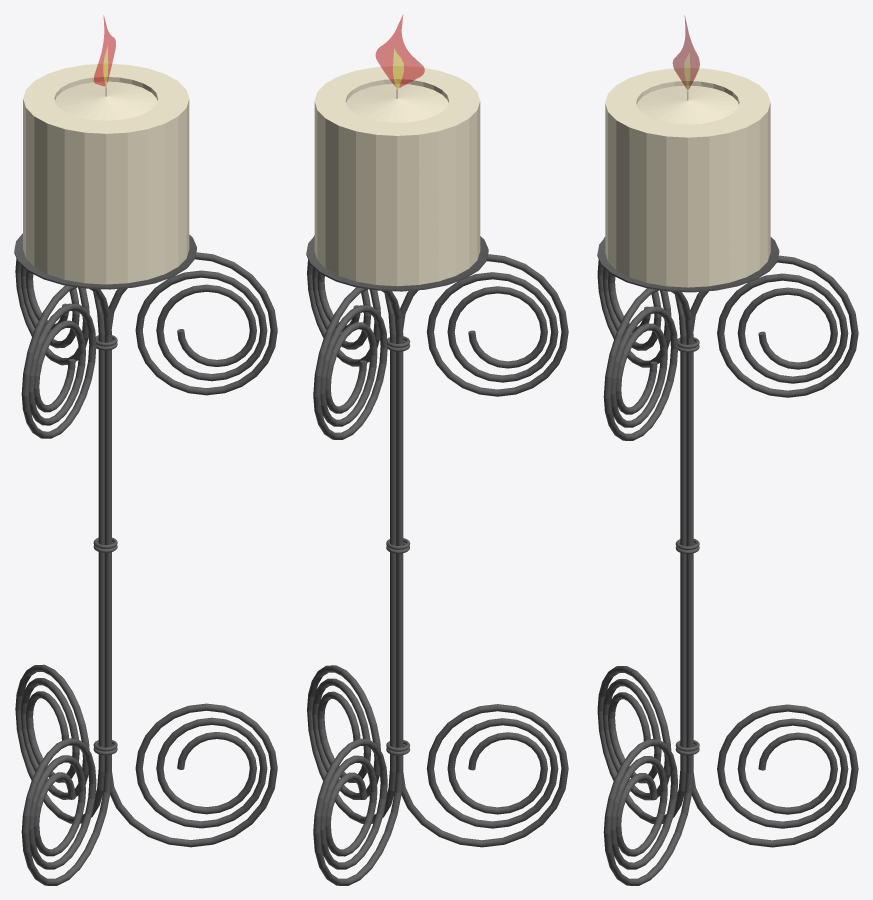
Rendered from Candle+Holder.obj.
3 views of the same model, side by side, from view 1: azimuth 30°, elevation 25°; view 2: azimuth 150°, elevation 25°; view 3: azimuth 270°, elevation 25° (orthographic).
Parts seen in each view (by area): view 1: Mesh3 skpF009_1 Model, Mesh5 skpF009_1 Model, Mesh6 skpF009_1 Model, Mesh4 skpF009_1 Model, Mesh2 skpF009_1 Model, Mesh1 Component1 skpF009_1 Model; view 2: Mesh3 skpF009_1 Model, Mesh6 skpF009_1 Model, Mesh4 skpF009_1 Model, Mesh5 skpF009_1 Model, Mesh1 Component1 skpF009_1 Model, Mesh2 skpF009_1 Model; view 3: Mesh3 skpF009_1 Model, Mesh4 skpF009_1 Model, Mesh5 skpF009_1 Model, Mesh6 skpF009_1 Model, Mesh2 skpF009_1 Model, Mesh1 Component1 skpF009_1 Model.
Part boxes in pixels (box(x1,y1,x2,y2)): Mesh3 skpF009_1 Model: box(23, 63, 189, 284); Mesh5 skpF009_1 Model: box(108, 252, 277, 847); Mesh6 skpF009_1 Model: box(21, 285, 111, 885); Mesh4 skpF009_1 Model: box(15, 258, 104, 823); Mesh2 skpF009_1 Model: box(14, 233, 196, 289); Mesh1 Component1 skpF009_1 Model: box(94, 15, 115, 86); Mesh3 skpF009_1 Model: box(314, 66, 480, 286); Mesh6 skpF009_1 Model: box(400, 254, 568, 847); Mesh4 skpF009_1 Model: box(313, 287, 403, 885); Mesh5 skpF009_1 Model: box(307, 235, 395, 823); Mesh1 Component1 skpF009_1 Model: box(375, 15, 424, 88); Mesh2 skpF009_1 Model: box(306, 236, 488, 291); Mesh3 skpF009_1 Model: box(605, 67, 770, 287); Mesh4 skpF009_1 Model: box(690, 255, 858, 847); Mesh5 skpF009_1 Model: box(603, 288, 693, 885); Mesh6 skpF009_1 Model: box(597, 237, 686, 823); Mesh2 skpF009_1 Model: box(597, 237, 779, 292); Mesh1 Component1 skpF009_1 Model: box(672, 15, 699, 90).
Size of the model in its own units: 7.18 by 22.22 by 6.32.
